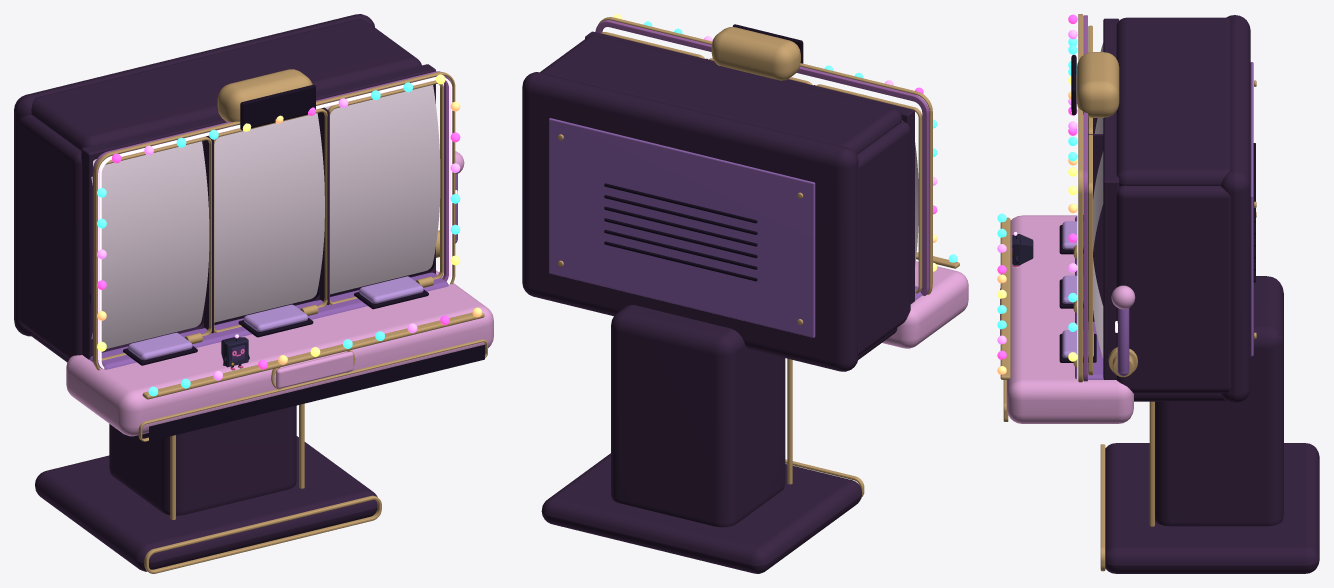
Rendered from slot.glb.
3 renders of one model, left to right at view 1: azimuth 30°, elevation 25°; view 2: azimuth 150°, elevation 25°; view 3: azimuth 270°, elevation 25°, orthographic. The views are drawn at different scales.
Parts seen in each view (by area): view 1: structure_candy_plum, structure_wand_pink, reel_2, reel_3, reel_1, structure_brushed_brass, apron_display, structure_candy_violet, marquee_glow, structure_recess_plum, structure_candy_rose, screen_jackpot (+5 smaller); view 2: structure_candy_plum, structure_candy_violet, structure_brushed_brass, structure_recess_plum, structure_candy_rose, structure_wand_pink; view 3: structure_candy_plum, structure_wand_pink, structure_brushed_brass, structure_candy_violet, structure_candy_rose, structure_recess_plum, reel_3, wand_grip, marquee_glow, EMI_case, freeze_3, wand_head.
Boxes of the visible parts, x1,y1,x2,y2 form: structure_candy_plum: [14, 14, 435, 571]; structure_wand_pink: [66, 270, 493, 436]; reel_2: [214, 113, 324, 322]; reel_3: [325, 85, 440, 294]; reel_1: [91, 141, 209, 348]; structure_brushed_brass: [94, 69, 487, 573]; apron_display: [149, 344, 484, 441]; structure_candy_violet: [89, 272, 448, 369]; marquee_glow: [98, 76, 452, 368]; structure_recess_plum: [123, 84, 428, 365]; structure_candy_rose: [92, 71, 450, 367]; screen_jackpot: [247, 91, 312, 125]; structure_candy_plum: [522, 31, 914, 573]; structure_candy_violet: [549, 118, 922, 337]; structure_brushed_brass: [558, 17, 959, 496]; structure_recess_plum: [604, 24, 803, 281]; structure_candy_rose: [595, 20, 929, 295]; structure_wand_pink: [882, 261, 968, 348]; structure_candy_plum: [1088, 15, 1319, 573]; structure_wand_pink: [1006, 215, 1133, 423]; structure_brushed_brass: [1000, 14, 1256, 571]; structure_candy_violet: [1075, 62, 1253, 379]; structure_candy_rose: [1083, 15, 1087, 381]; structure_recess_plum: [1059, 55, 1255, 362]; reel_3: [1093, 151, 1103, 358]; wand_grip: [1117, 308, 1129, 372]; marquee_glow: [1077, 18, 1078, 379]; EMI_case: [1013, 234, 1033, 265]; freeze_3: [1062, 330, 1093, 358]; wand_head: [1111, 285, 1135, 309].
Size of what is drawn, in the model's own units: 1.67 by 1.89 by 1.22.
29 materials, 1 textured.
